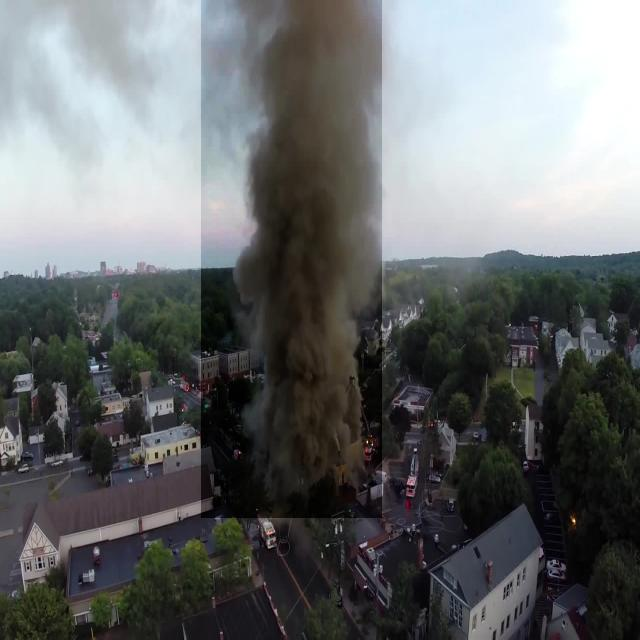Smoke: (201, 0, 382, 518)
